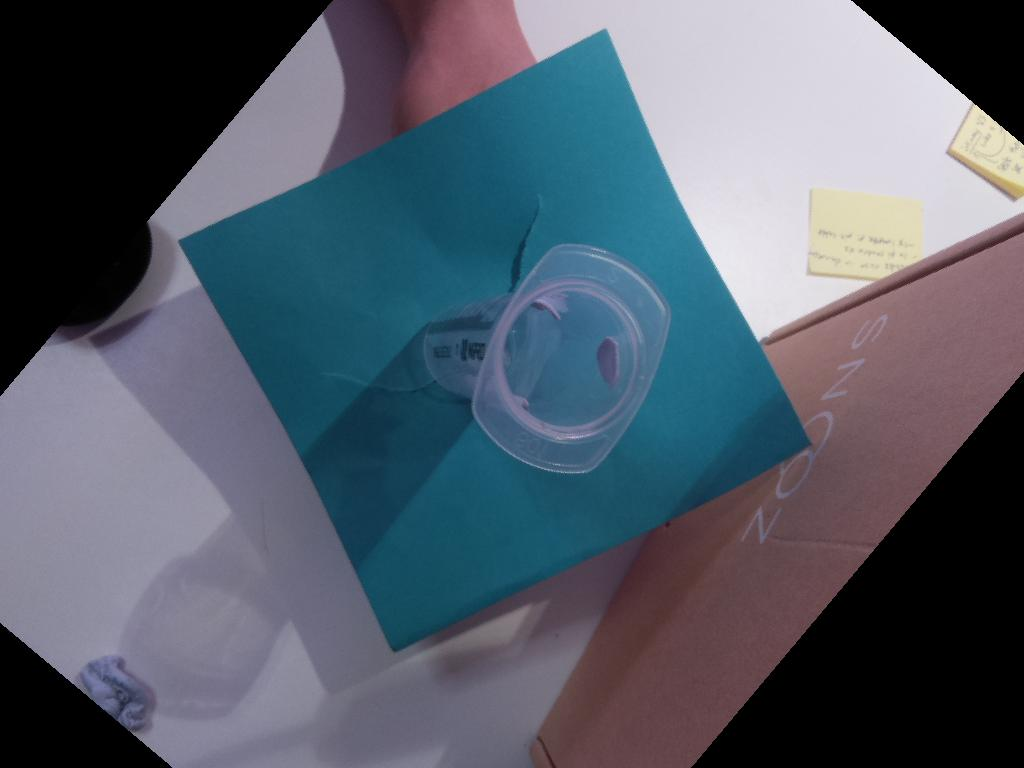dirty: (471, 244, 673, 475)
